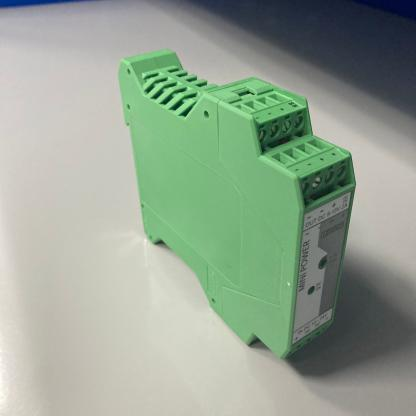SP0000011: (86, 32, 404, 382)
